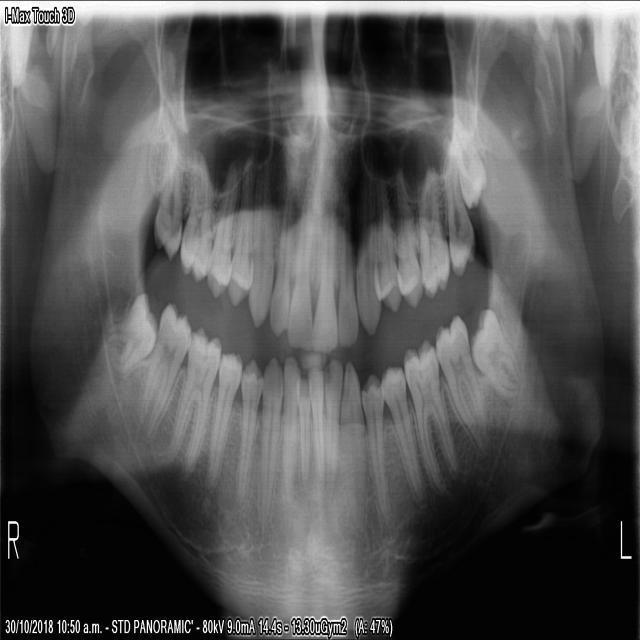LCD: (359, 366, 392, 524)
LCU: (354, 201, 384, 343)
LID: (339, 351, 367, 531), (324, 358, 344, 499)
LIU: (310, 210, 336, 354), (335, 207, 360, 352)
LMD: (432, 297, 498, 452), (468, 298, 526, 399)
LMU: (414, 175, 449, 298), (442, 158, 476, 284), (451, 125, 488, 213)
LPMD: (398, 327, 462, 503), (378, 360, 426, 503)
LPMU: (371, 187, 405, 313), (391, 194, 423, 308)
RCD: (271, 353, 298, 497)
RCU: (243, 166, 276, 331)
RID: (292, 374, 314, 489), (305, 362, 324, 473)
RIU: (266, 192, 301, 345), (284, 204, 313, 350)
RMD: (169, 320, 226, 479), (134, 301, 193, 427), (106, 282, 159, 381), (205, 346, 243, 480)
RMU: (148, 146, 185, 262), (176, 163, 212, 278)
RPMD: (234, 350, 262, 500), (260, 350, 282, 520)
RPMU: (202, 163, 240, 303), (225, 168, 256, 311)
